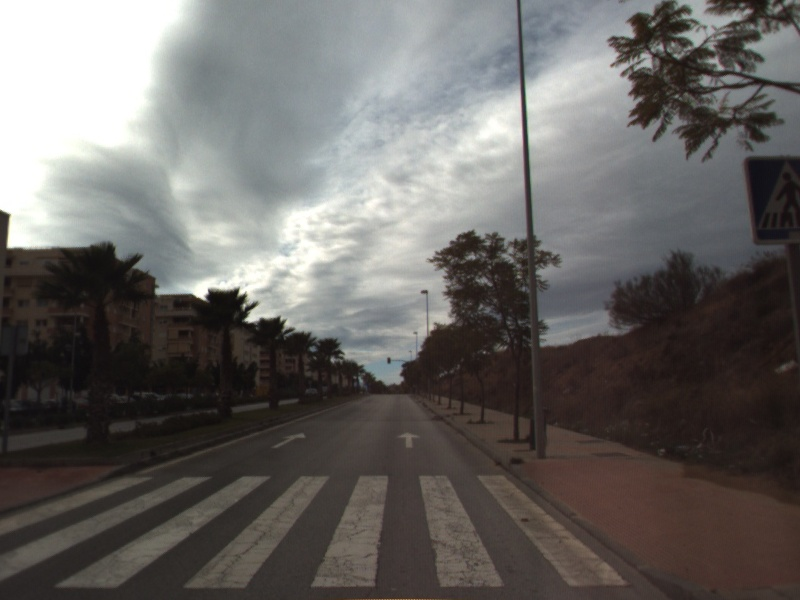STRAIGHT: (269, 430, 308, 450), (396, 430, 422, 450)
